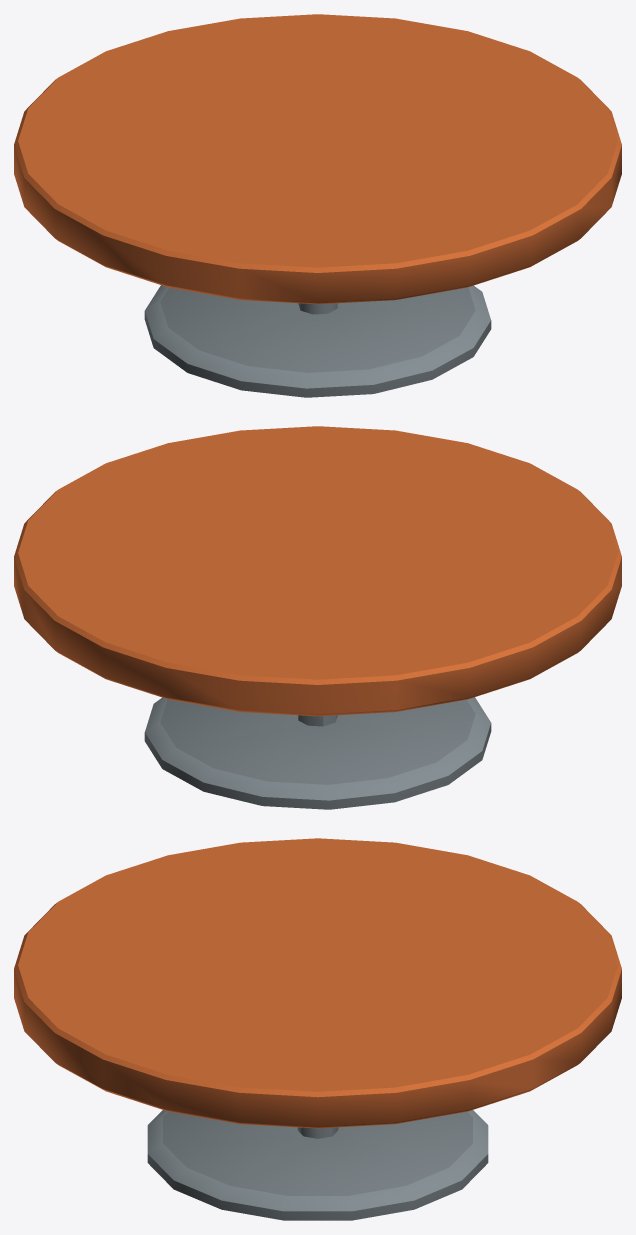
The model's file is kay-table_round_a.glb.
The picture shows the model from 3 angles, top to bottom: view 1: azimuth 30°, elevation 25°; view 2: azimuth 150°, elevation 25°; view 3: azimuth 270°, elevation 25°; orthographic projection.
Visible parts, largest first — view 1: table_round_A; view 2: table_round_A; view 3: table_round_A.
Boxes of the visible parts, x1=… form: table_round_A: x1=14, y1=14, x2=621, y2=397; table_round_A: x1=14, y1=426, x2=621, y2=809; table_round_A: x1=14, y1=838, x2=621, y2=1220.
Size of the model in its own units: 1.4 by 0.4667 by 1.4.
Materials: 1 (1 with a texture image).
